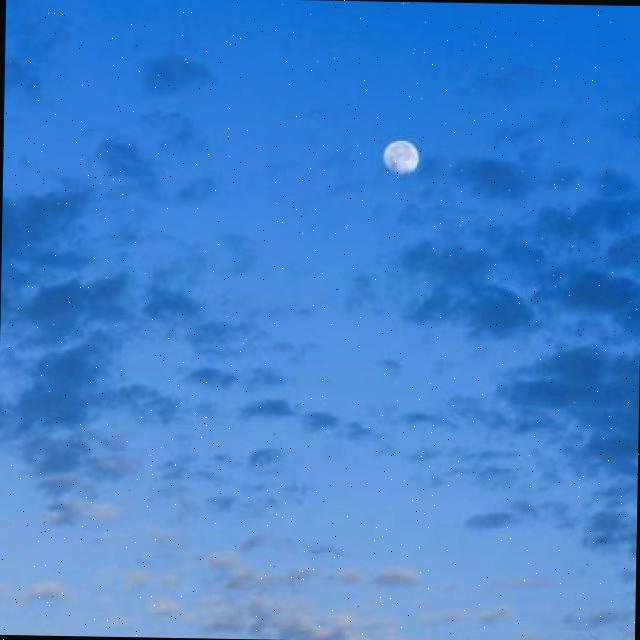Cc: (1, 188, 640, 618)
